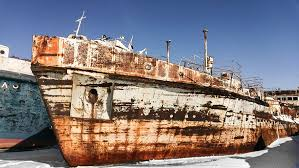rust: (87, 139, 260, 158), (119, 102, 219, 124)
